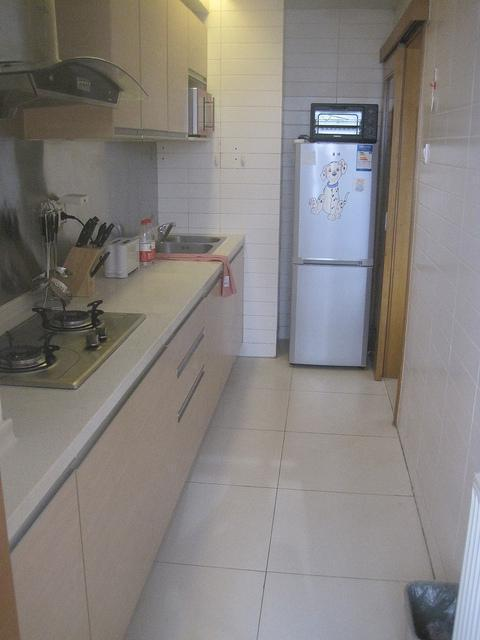Lavaplatos: (137, 211, 240, 273)
